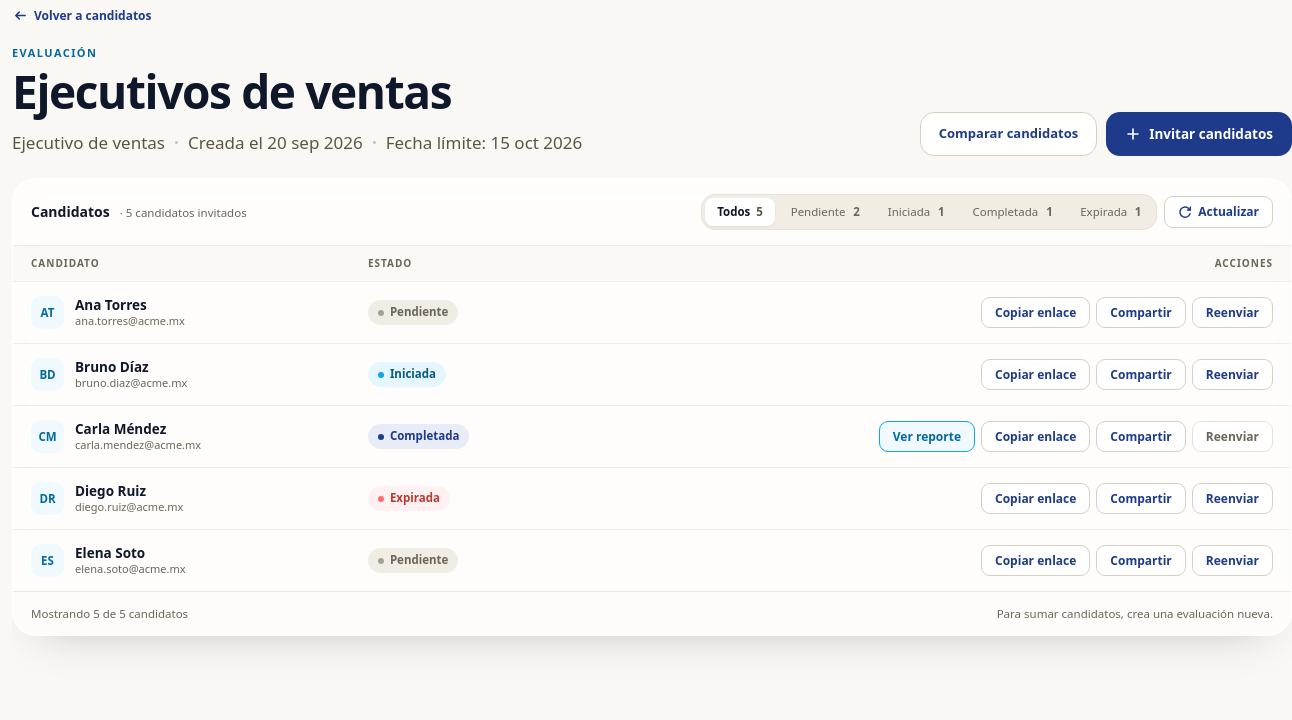
Test: EvaluacionDetallePage · copiar y compartir › si el portapapeles falla, lo avisa inline en la fila y no confirma
Step 1. Click the button named "Copiar enlace de Ana Torres" → (1036, 313), box [981,297,1090,328]
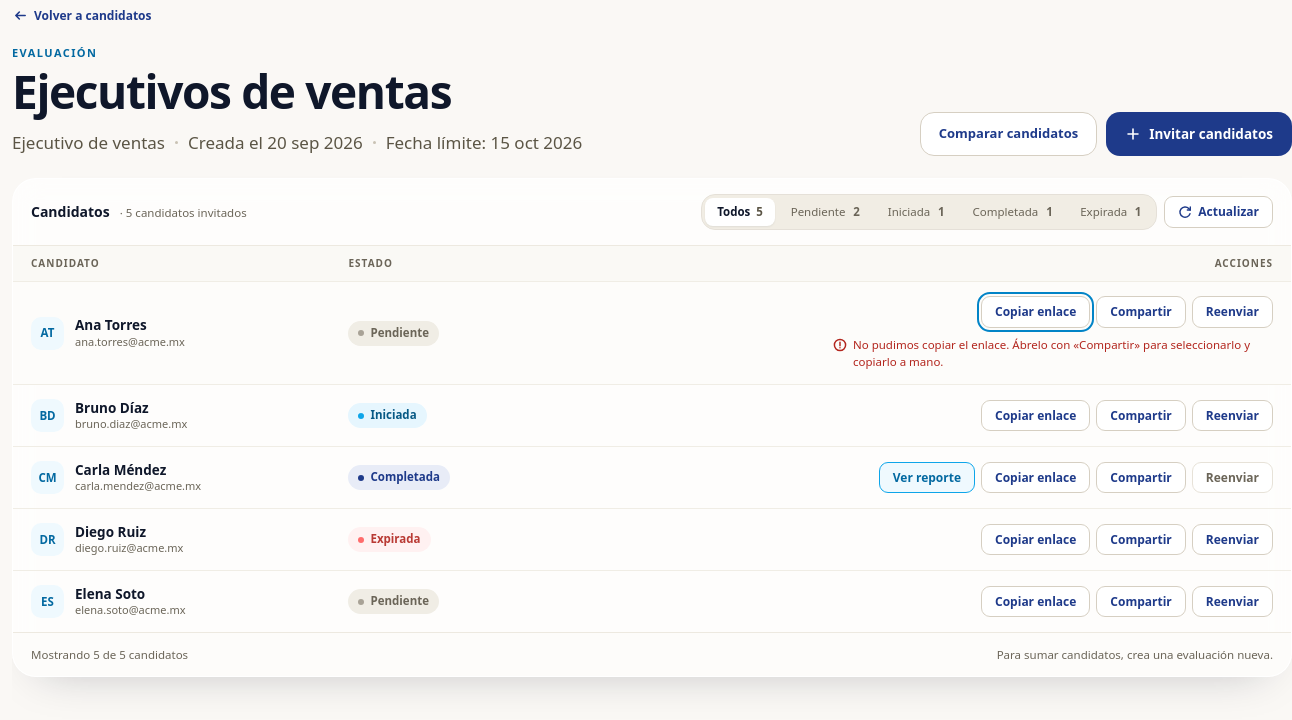
Result: the message shows "No pudimos copiar el enlace." at [853,337,1250,369]
